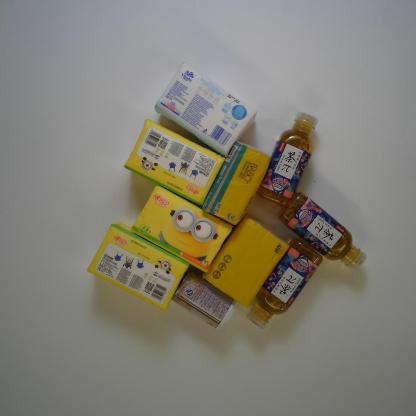Canned Food: (170, 270, 237, 331)
Drink: (245, 236, 324, 331), (277, 191, 367, 273), (255, 110, 319, 209)
Tissue: (154, 60, 258, 158), (86, 222, 191, 313), (122, 118, 226, 208), (130, 184, 234, 274), (200, 212, 292, 309), (201, 140, 271, 226)
